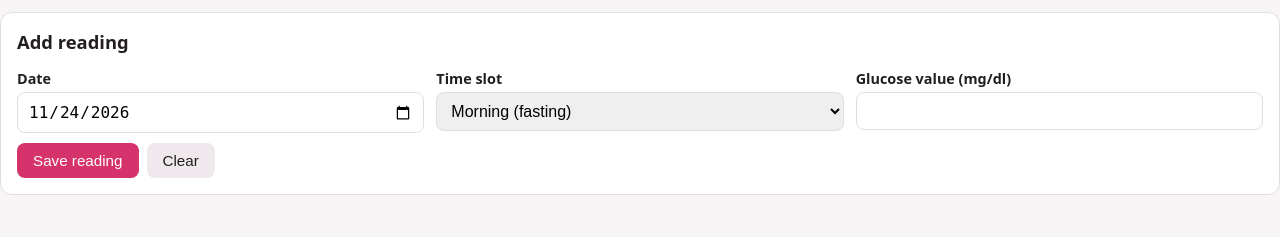
Test: rejects a future date
The image size is (1280, 237).
Type "2999-01-01" into the date field labelled "Date" at (221,113), box [17, 92, 424, 133]
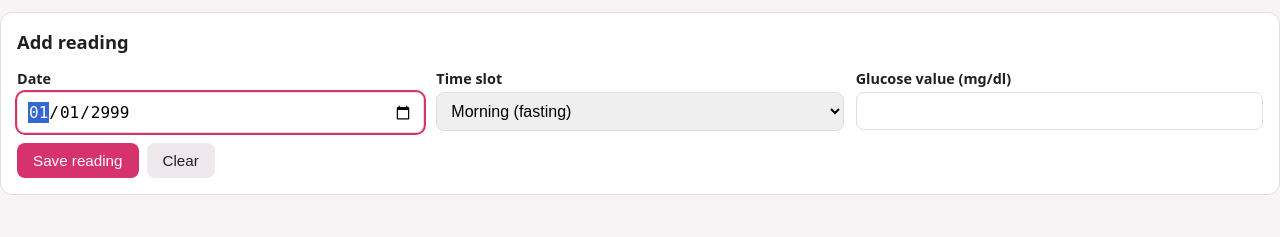
Type "120" into the number field labelled "Glucose value (mg/dl)" at (1059,111), box [856, 92, 1263, 130]
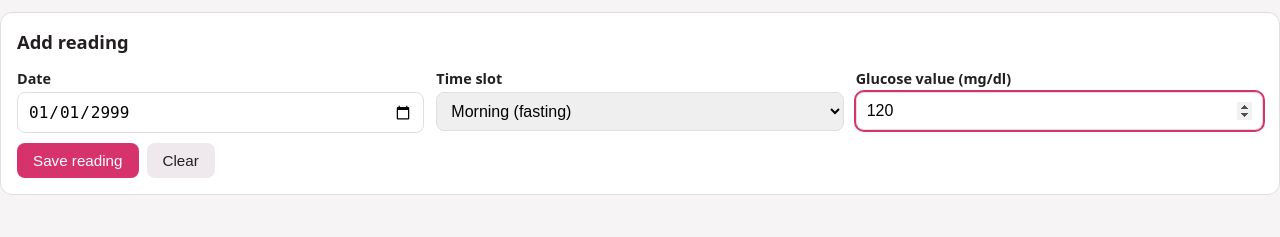
Click the button "Save reading" at (78,161), box [17, 143, 138, 178]
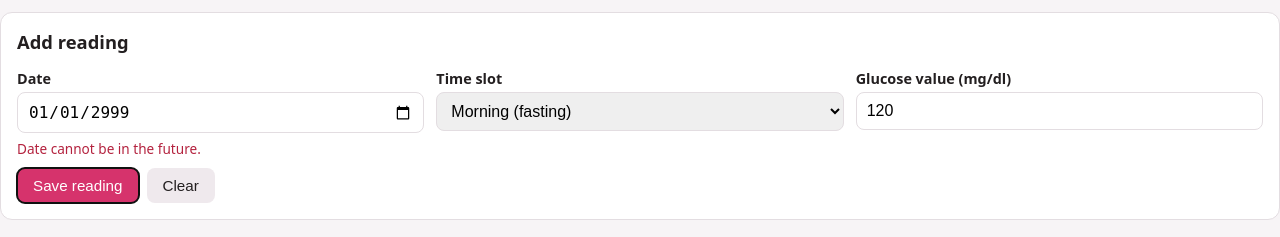
Now the text "Date cannot be in the future." is shown, box [17, 139, 201, 158]
